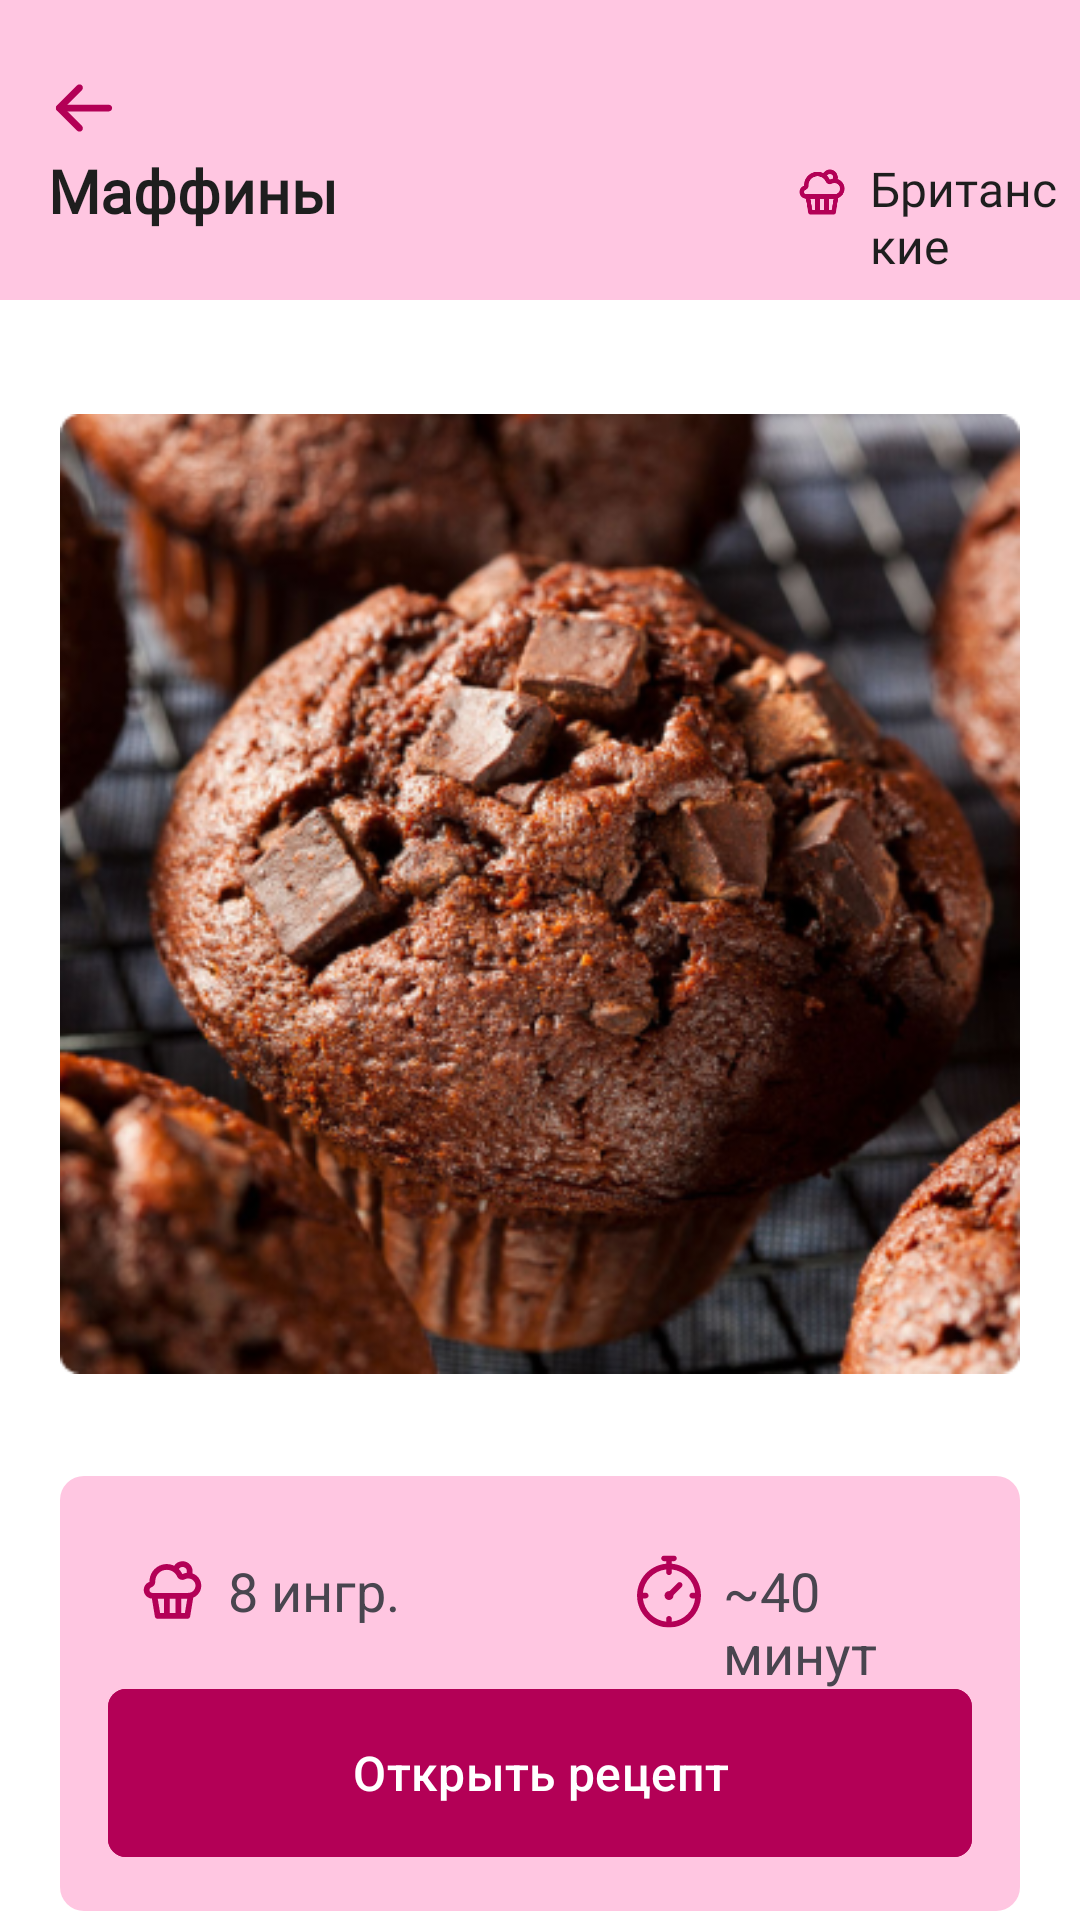

Icons on this 1080*1920 Android screen, each with its box as bbox=(x1, y1, x2, y2):
timer: bbox=(637, 1555, 701, 1628)
